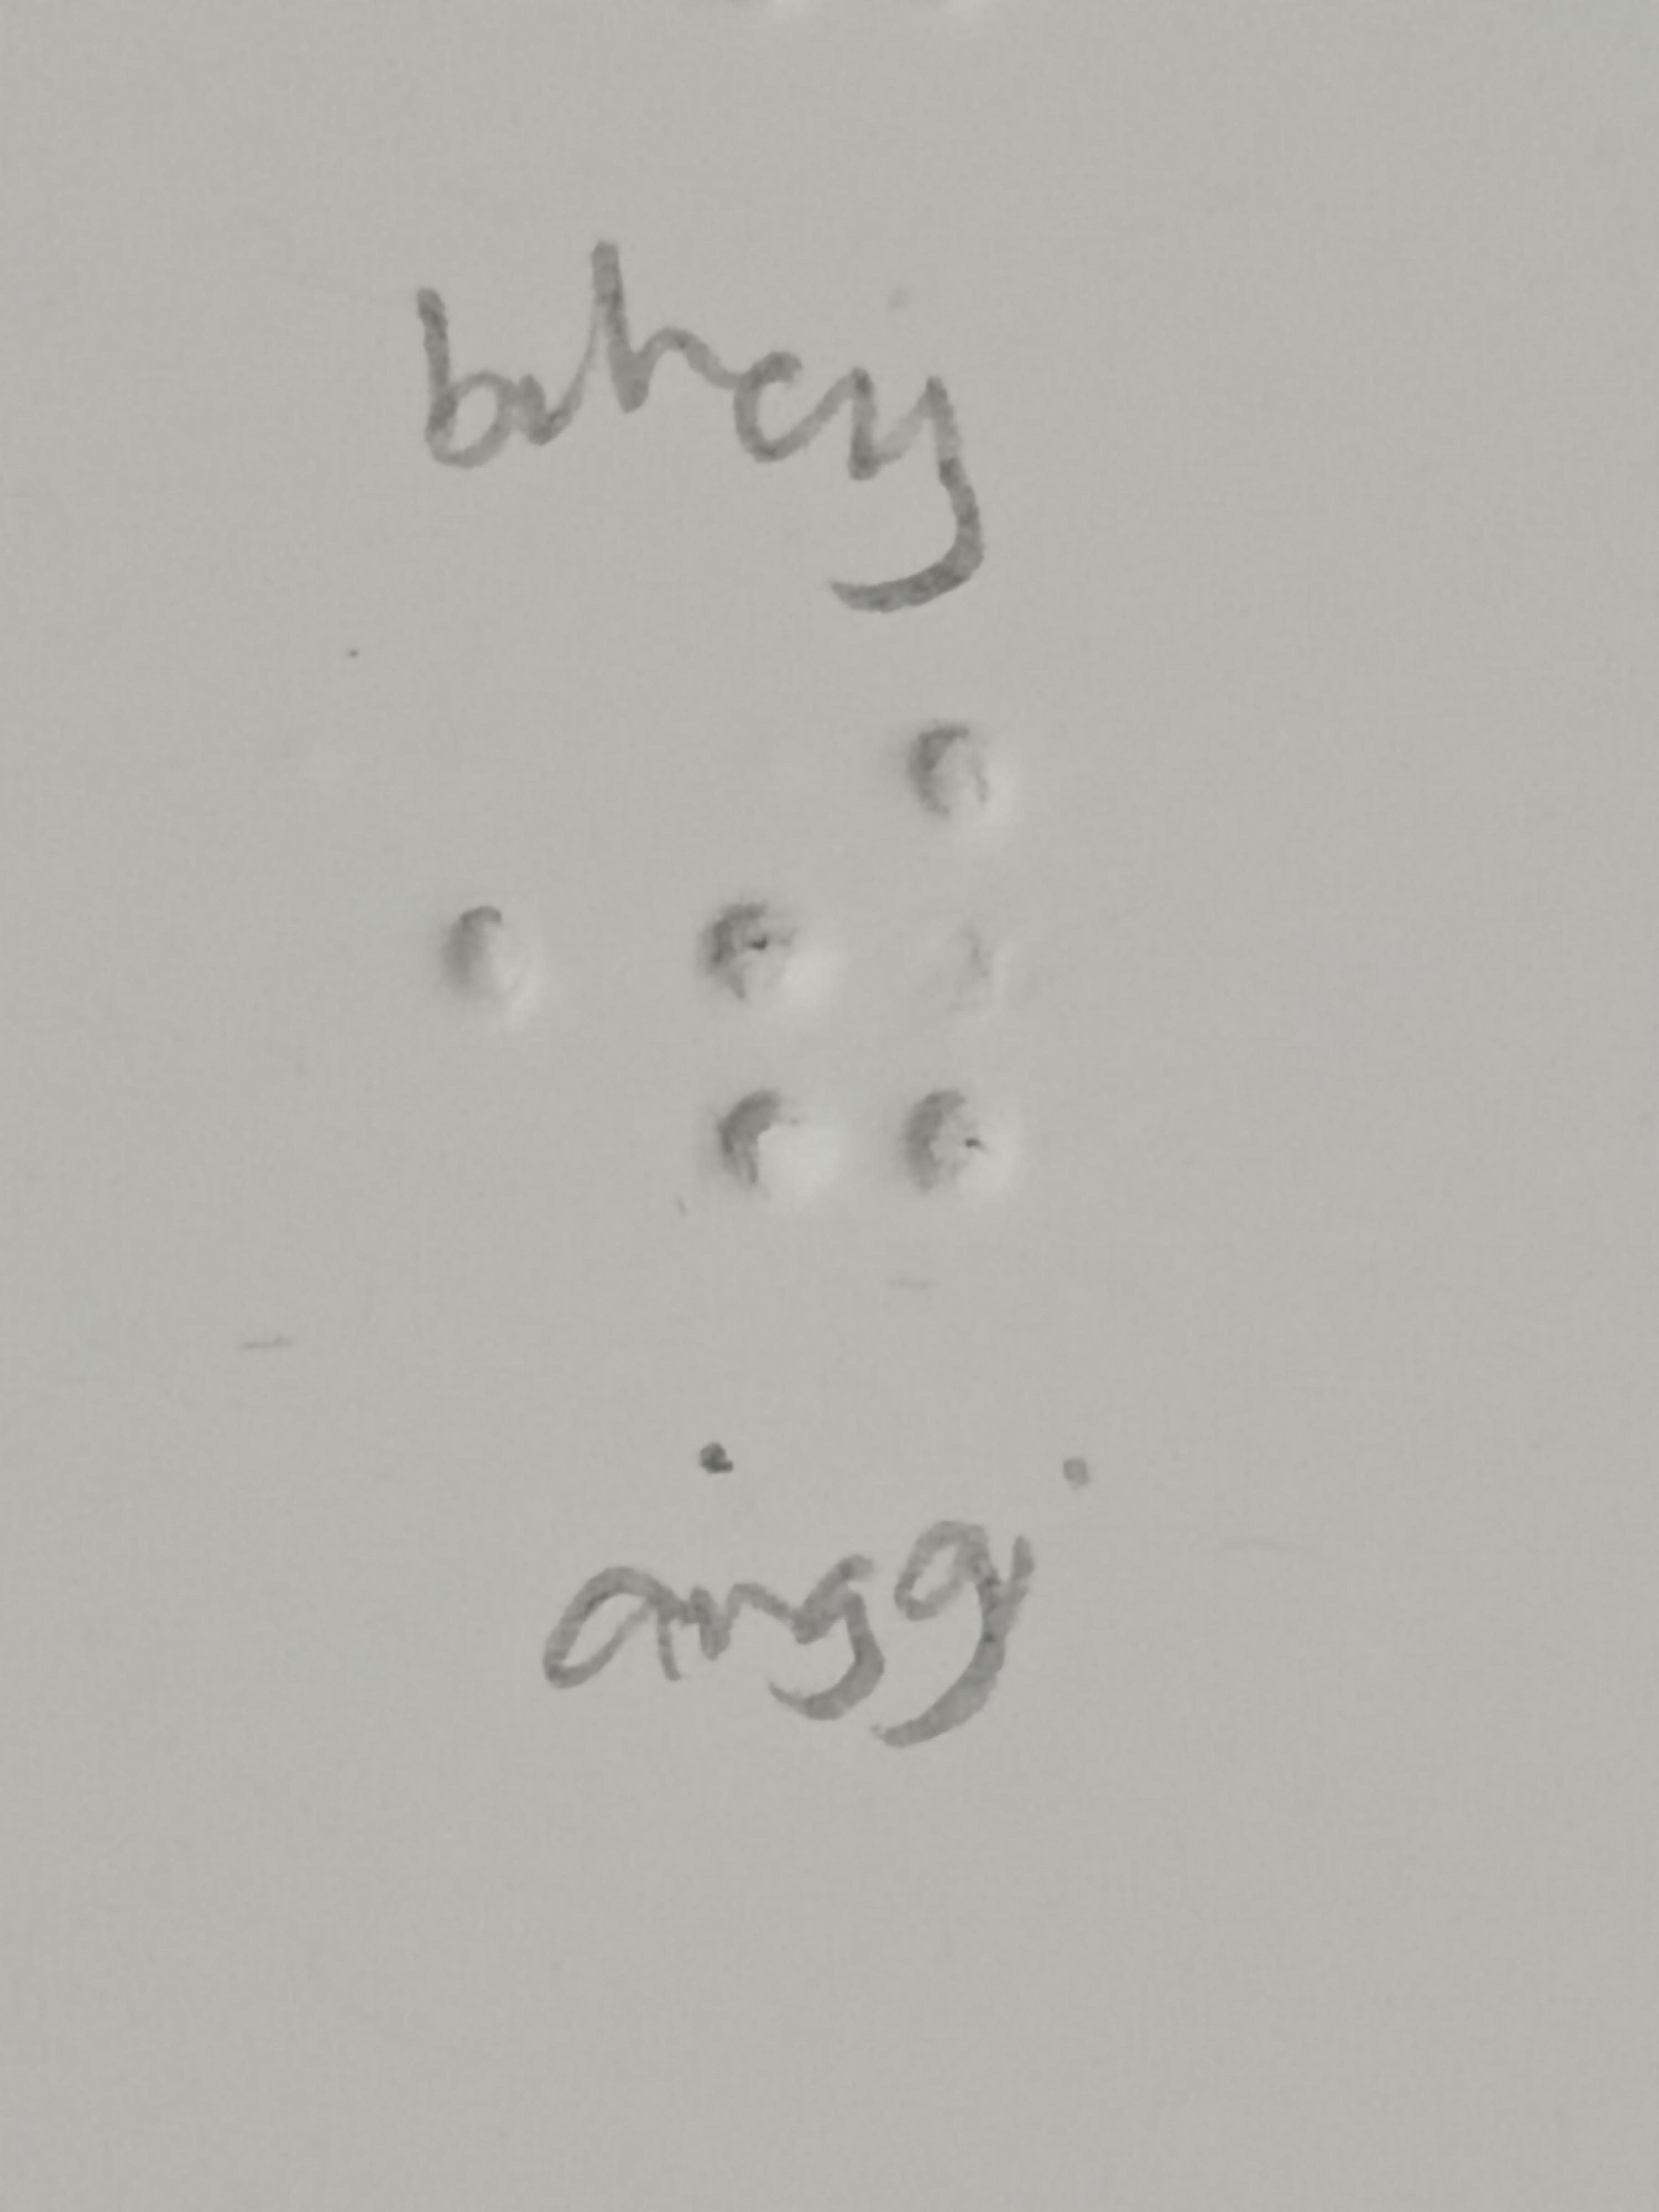dot_5: (221, 698, 532, 1216)
two_cell_non_alphabet_anggi: (704, 704, 1014, 1219)
